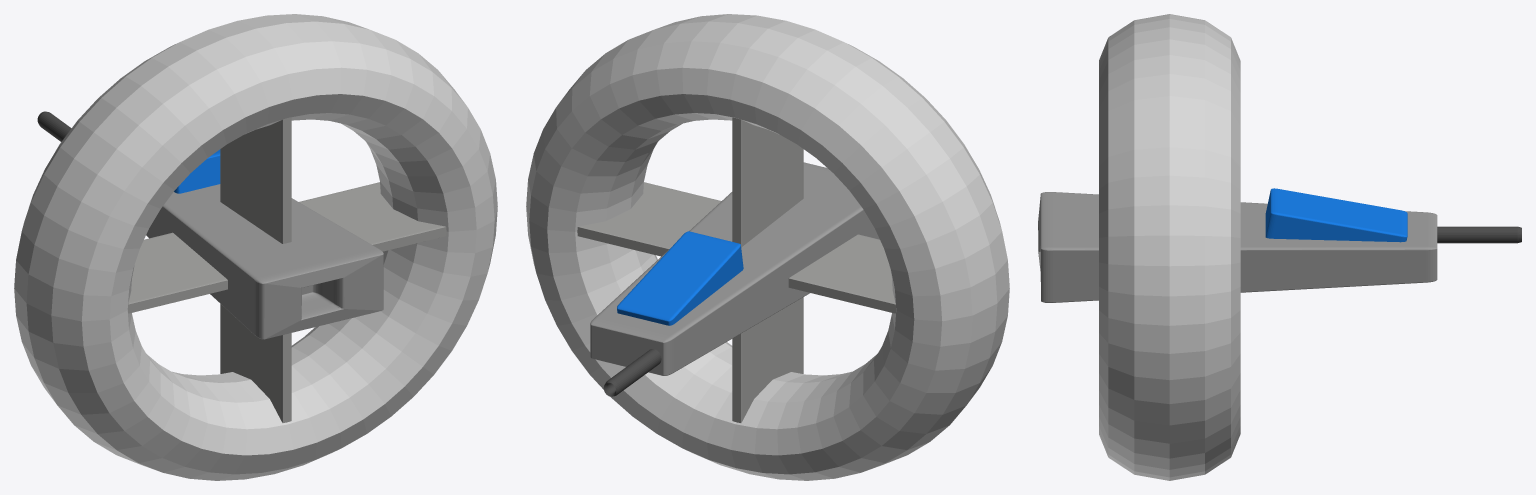
Rendered from SpacePlane.fbx.
The picture shows the model from 3 angles, left to right: view 1: azimuth 30°, elevation 25°; view 2: azimuth 150°, elevation 25°; view 3: azimuth 270°, elevation 25°; orthographic projection. The views are drawn at different scales.
Visible parts, largest first — view 1: Torus, Cube, Cube.002, Cube.001, Cube.003, Cylinder; view 2: Torus, Cube, Cube.002, Cube.001, Cube.003, Cylinder; view 3: Torus, Cube, Cube.003, Cylinder.
Boxes of the visible parts, bbox=[...] form: Torus: bbox=[14, 14, 497, 480]; Cube: bbox=[146, 184, 383, 339]; Cube.002: bbox=[220, 117, 291, 422]; Cube.001: bbox=[128, 182, 446, 313]; Cube.003: bbox=[174, 149, 220, 193]; Cylinder: bbox=[37, 111, 71, 141]; Torus: bbox=[526, 14, 1009, 480]; Cube: bbox=[590, 162, 879, 375]; Cube.002: bbox=[732, 117, 803, 422]; Cube.001: bbox=[577, 182, 895, 313]; Cube.003: bbox=[617, 231, 743, 325]; Cylinder: bbox=[603, 349, 661, 396]; Torus: bbox=[1099, 14, 1240, 480]; Cube: bbox=[1038, 192, 1437, 302]; Cube.003: bbox=[1265, 188, 1407, 242]; Cylinder: bbox=[1437, 226, 1521, 243].
Bounding box in the file's own units: 724 × 660 × 695.
